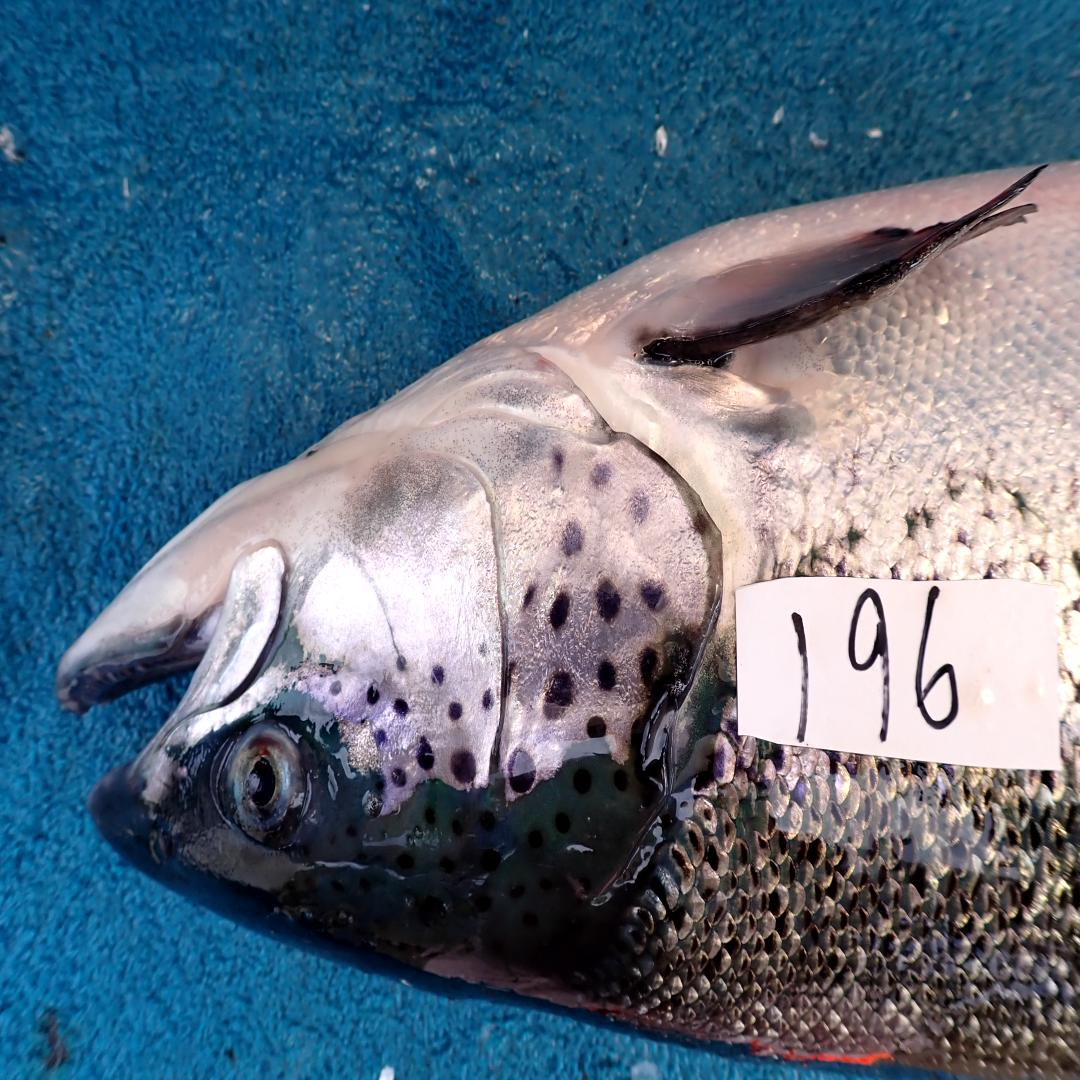roi: (284, 331, 723, 811)
